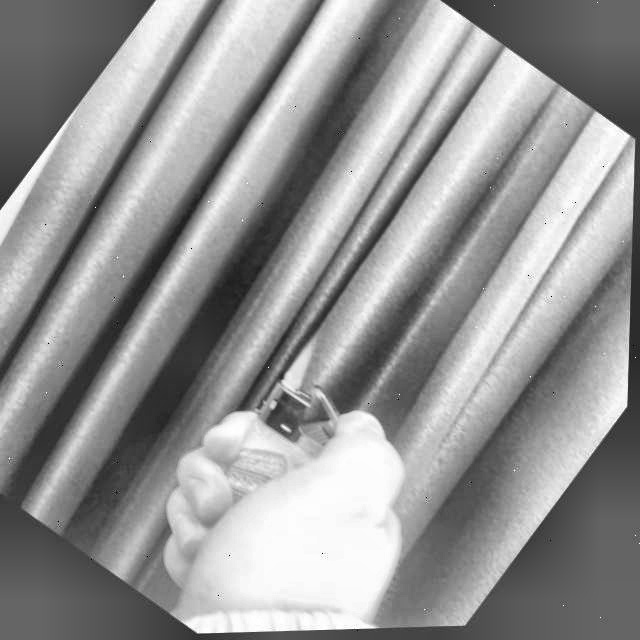Fire: (275, 329, 334, 396)
